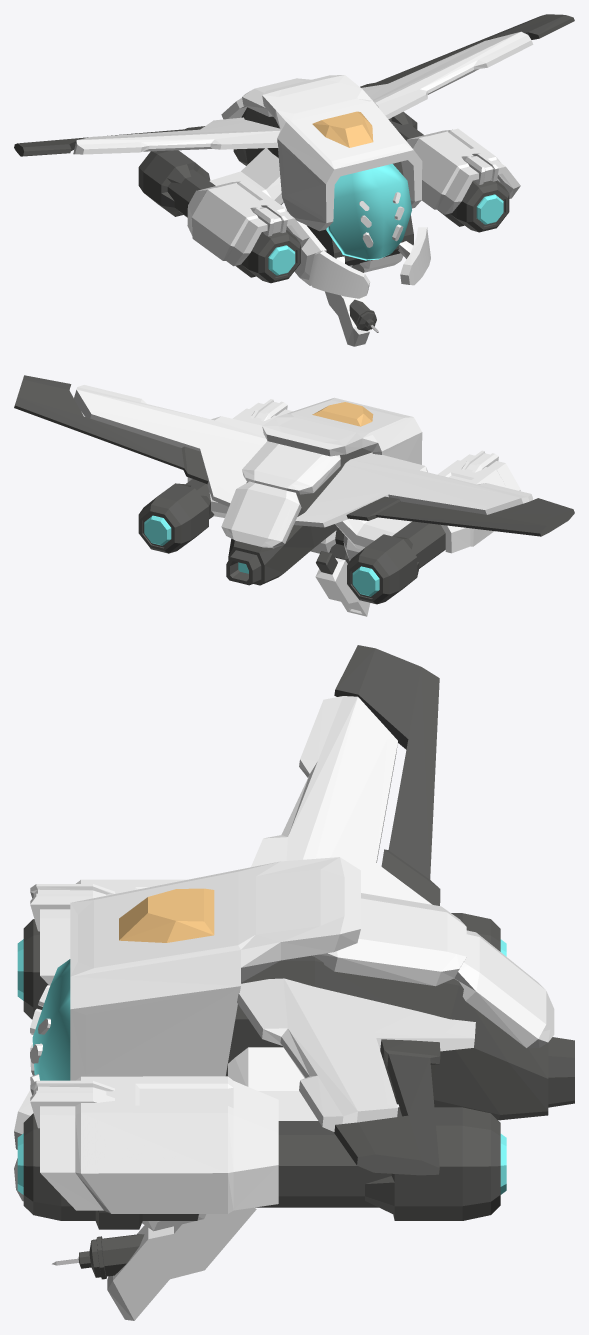
The model's file is Hangar_RepairDrone_01.fbx.
The picture shows the model from 3 angles, top to bottom: view 1: azimuth 30°, elevation 25°; view 2: azimuth 150°, elevation 25°; view 3: azimuth 270°, elevation 25°; orthographic projection. The views are drawn at different scales.
Parts seen in each view (by area): view 1: RepairDrone_01; view 2: RepairDrone_01; view 3: RepairDrone_01.
Boxes of the visible parts, x1,y1,x2,y2 form: RepairDrone_01: (14, 14, 574, 346); RepairDrone_01: (14, 375, 574, 616); RepairDrone_01: (14, 645, 574, 1320).
Bounding box in the file's own units: 433 × 164 × 200.
